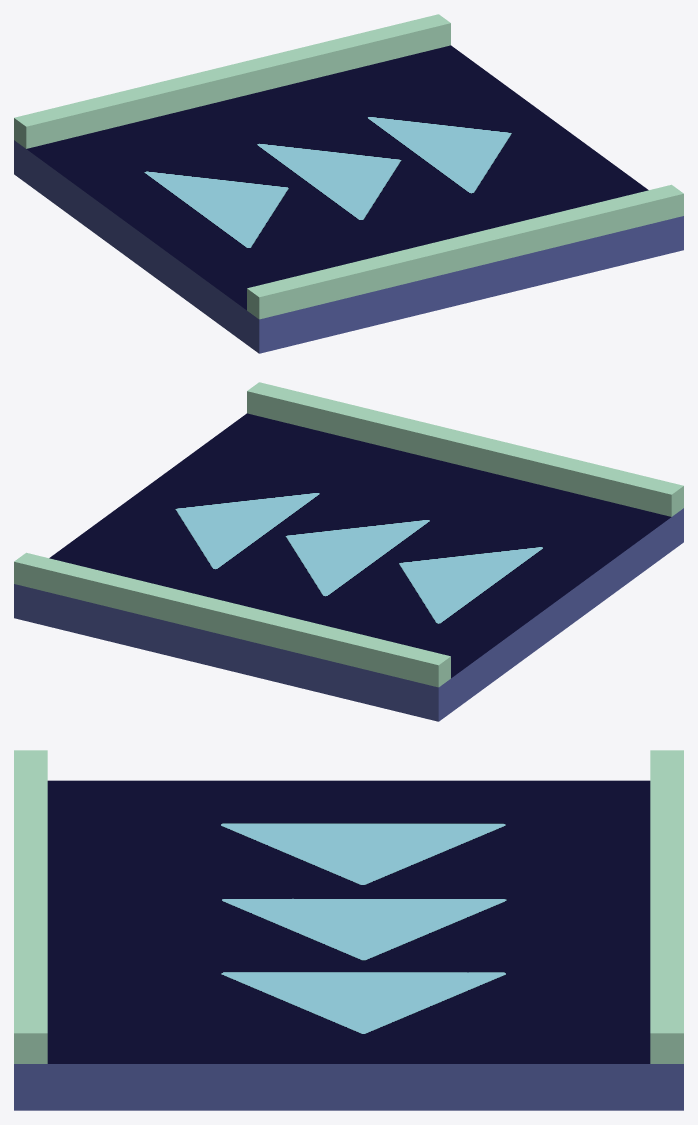
Rendered from conveer.fbx.
3 renders of one model, top to bottom at view 1: azimuth 30°, elevation 25°; view 2: azimuth 150°, elevation 25°; view 3: azimuth 270°, elevation 25°, orthographic. The views are drawn at different scales.
Parts seen in each view (by area): view 1: Cube, Cube.001, Cube.002; view 2: Cube, Cube.002, Cube.001; view 3: Cube, Cube.001, Cube.002.
Boxes of the visible parts, x1,y1,x2,y2 form: Cube: (14,45,683,353); Cube.001: (14,14,450,148); Cube.002: (247,184,683,319); Cube: (14,413,683,721); Cube.002: (247,382,683,516); Cube.001: (14,552,450,687); Cube: (14,780,683,1110); Cube.001: (650,750,683,1063); Cube.002: (14,750,47,1063).
Size of the model in its own units: 200 by 25.43 by 200.
Materials: 3 (1 with a texture image).
